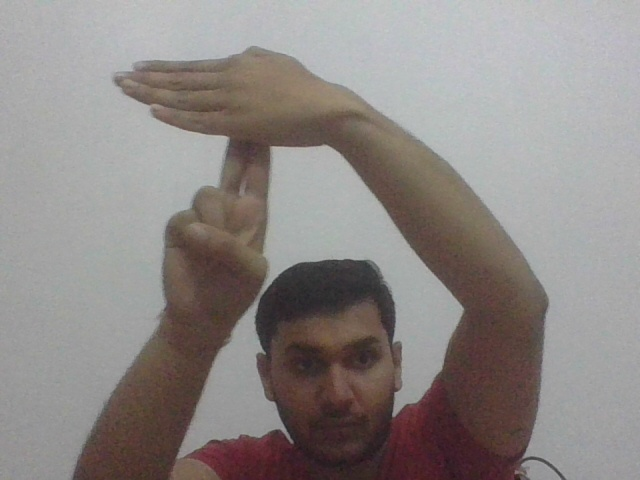N: (111, 45, 324, 192)
